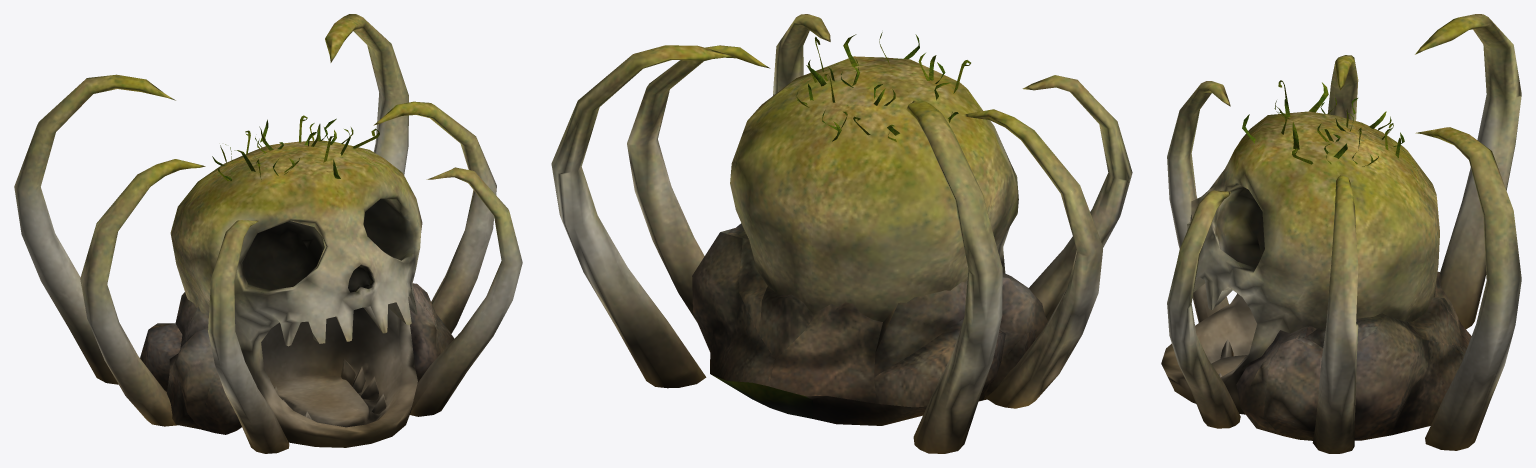
Rendered from sb_obj_outdoor010_Landmark_EnemyHideout.fbx.
3 renders of one model, left to right at view 1: azimuth 30°, elevation 25°; view 2: azimuth 150°, elevation 25°; view 3: azimuth 270°, elevation 25°, orthographic. The views are drawn at different scales.
Parts seen in each view (by area): view 1: sb_obj_outdoor010_Landmark01_EnemyHideout.001; view 2: sb_obj_outdoor010_Landmark01_EnemyHideout.001; view 3: sb_obj_outdoor010_Landmark01_EnemyHideout.001.
Part boxes in pixels (x1,y1,x2,y2): sb_obj_outdoor010_Landmark01_EnemyHideout.001: (14, 14, 522, 453); sb_obj_outdoor010_Landmark01_EnemyHideout.001: (551, 14, 1132, 453); sb_obj_outdoor010_Landmark01_EnemyHideout.001: (1161, 14, 1521, 453).
Size of the model in its own units: 1.37 by 0.9443 by 1.
